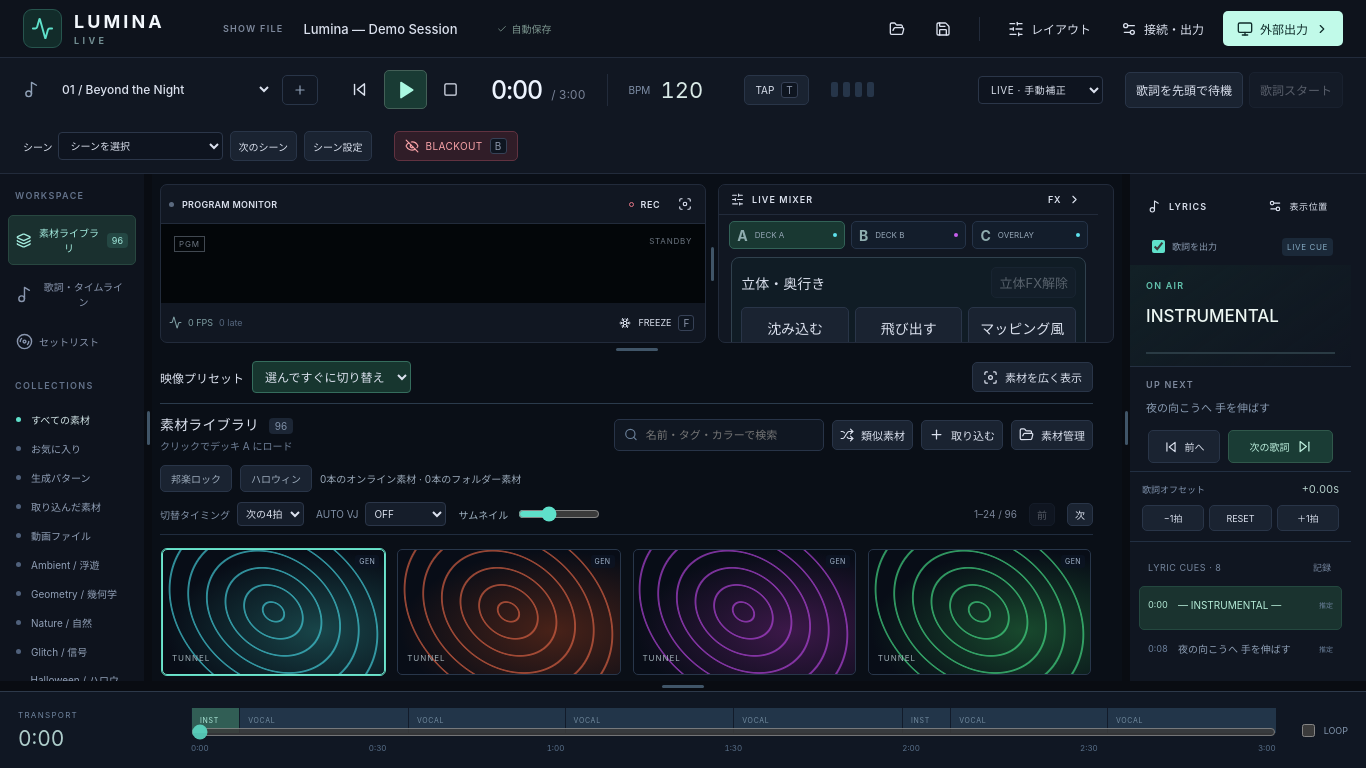
Scenario: scene settings dialog opened from the real App › opens from the top transport while the library is displayed
The width and height of the screenshot is (1366, 768).
Expected: the dropdown named "現在の曲" shows "01 / Beyond the Night", [50, 75, 272, 104]
Expected: the element with class "content-panel" is shown, [160, 355, 1114, 681]
Click the button "シーン設定": (338, 146) [304, 131, 372, 161]
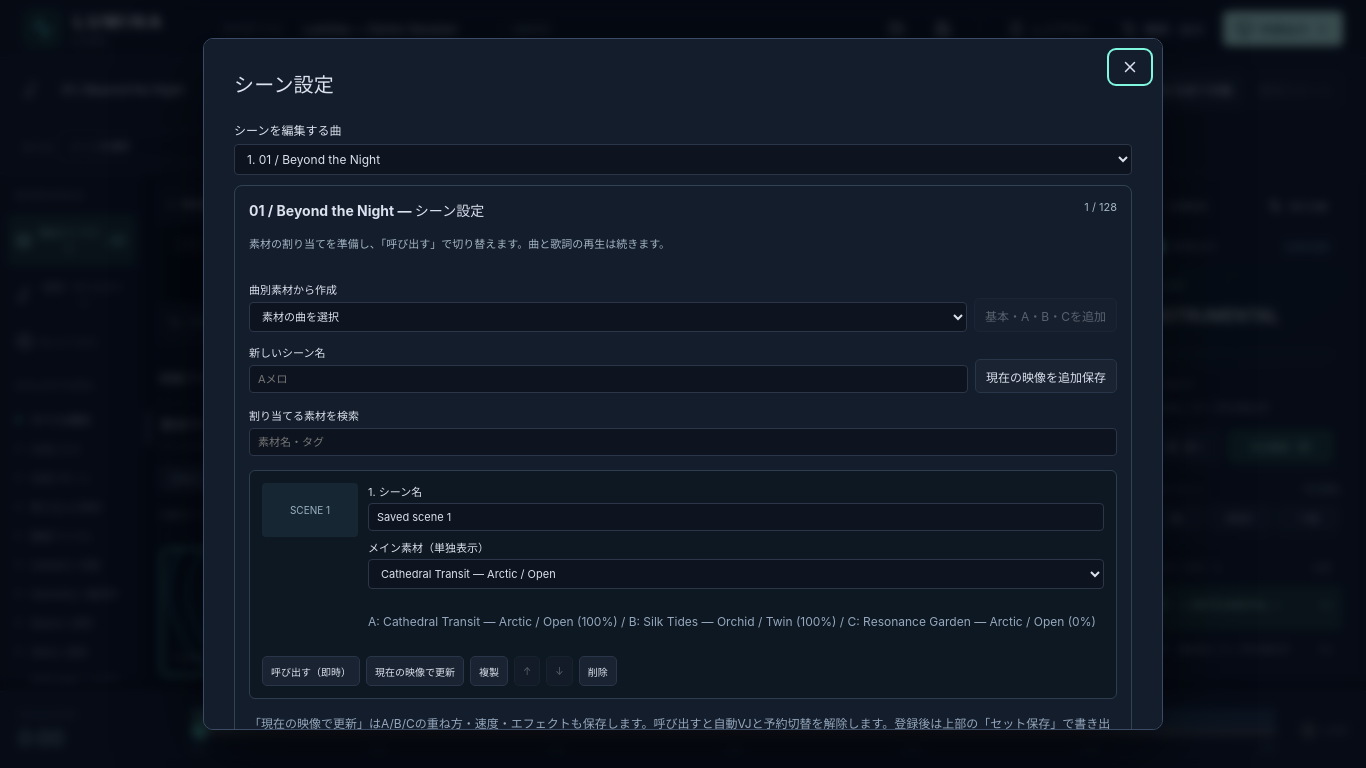
Now the number of dialogs named "シーン設定" is 1
Now the dialog named "シーン設定" is shown
Now the element named "シーン設定" is shown
